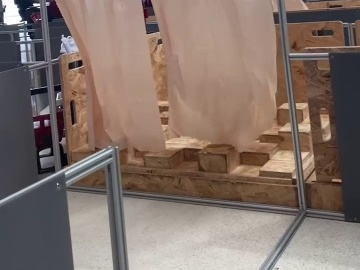curtain: (47, 0, 274, 157)
